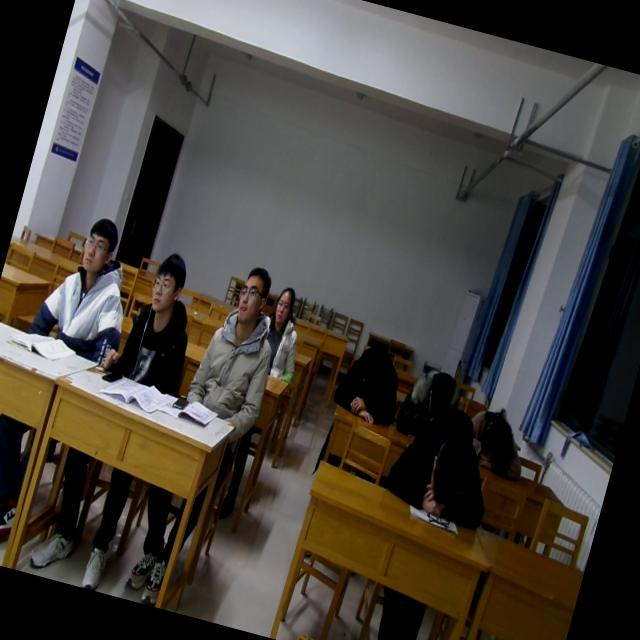bow: (376, 392, 509, 534), (326, 335, 414, 432), (456, 396, 540, 484), (391, 359, 473, 449)
lookup: (141, 245, 194, 320), (72, 207, 125, 280), (226, 258, 276, 332), (266, 279, 300, 333)
sit: (25, 204, 151, 370), (181, 255, 296, 432), (99, 236, 215, 393), (250, 282, 316, 386)
